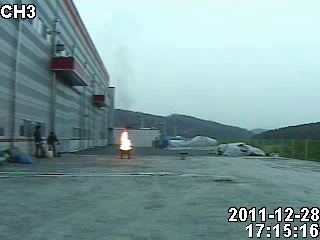fire: (117, 131, 133, 153)
